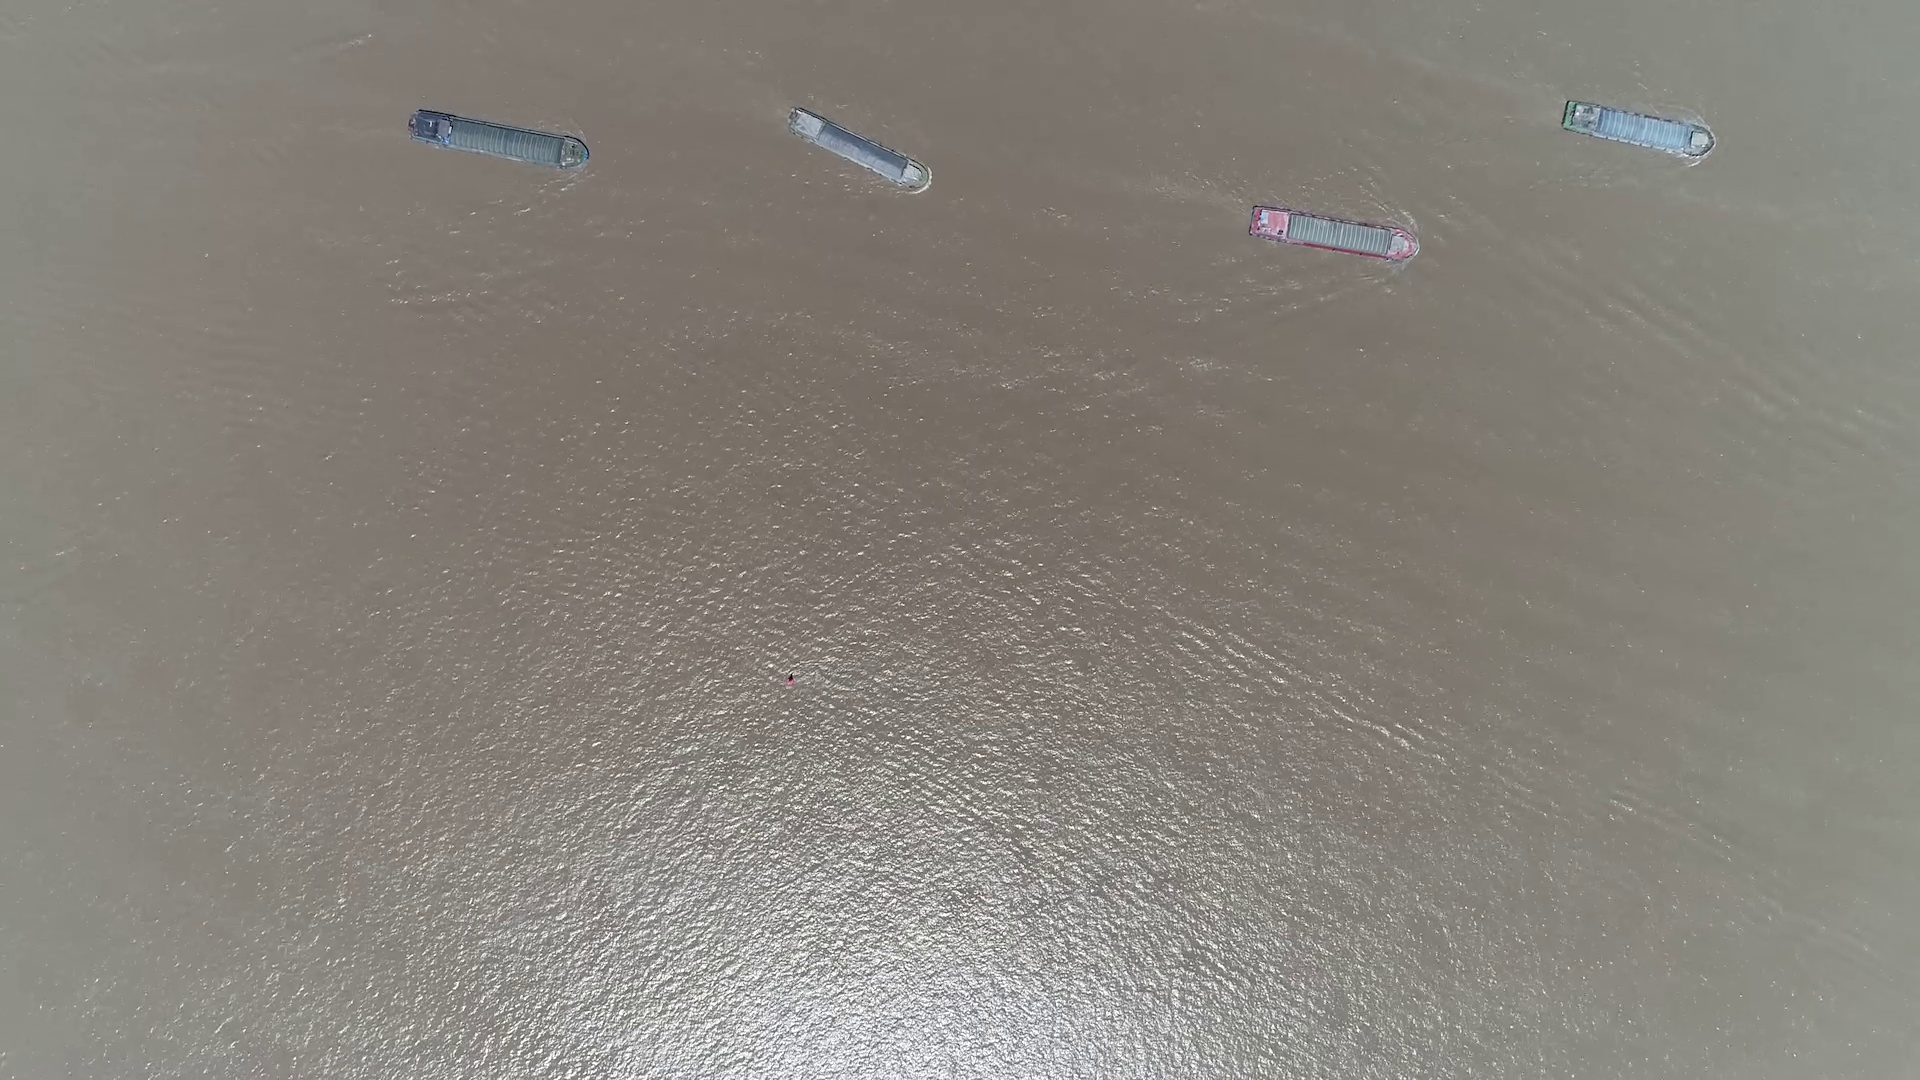ship: (787, 112, 931, 193), (409, 111, 589, 171), (1247, 207, 1419, 262), (1560, 103, 1710, 156)
